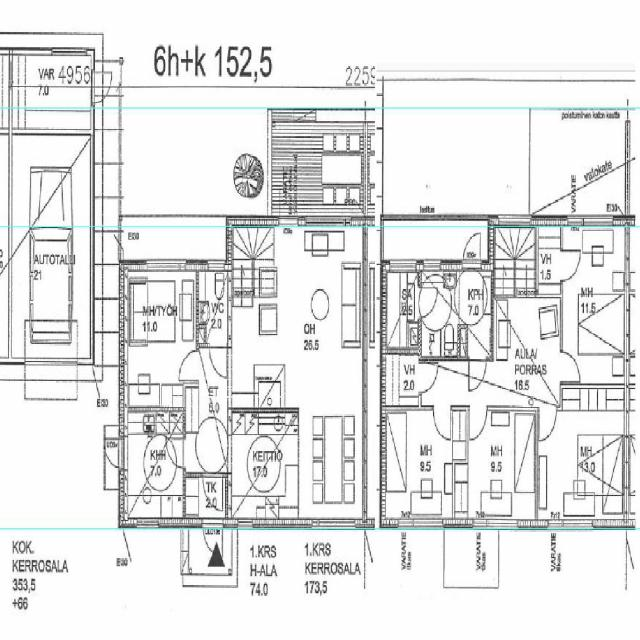door: (99, 437, 128, 471), (203, 520, 223, 564), (202, 472, 222, 511), (462, 229, 480, 272), (90, 72, 112, 104), (280, 186, 297, 227), (419, 363, 439, 394), (433, 406, 450, 440), (560, 250, 579, 280), (210, 343, 227, 376), (539, 406, 556, 439), (468, 357, 485, 390), (179, 352, 199, 380), (470, 406, 486, 440), (419, 288, 438, 316), (560, 352, 578, 381)
